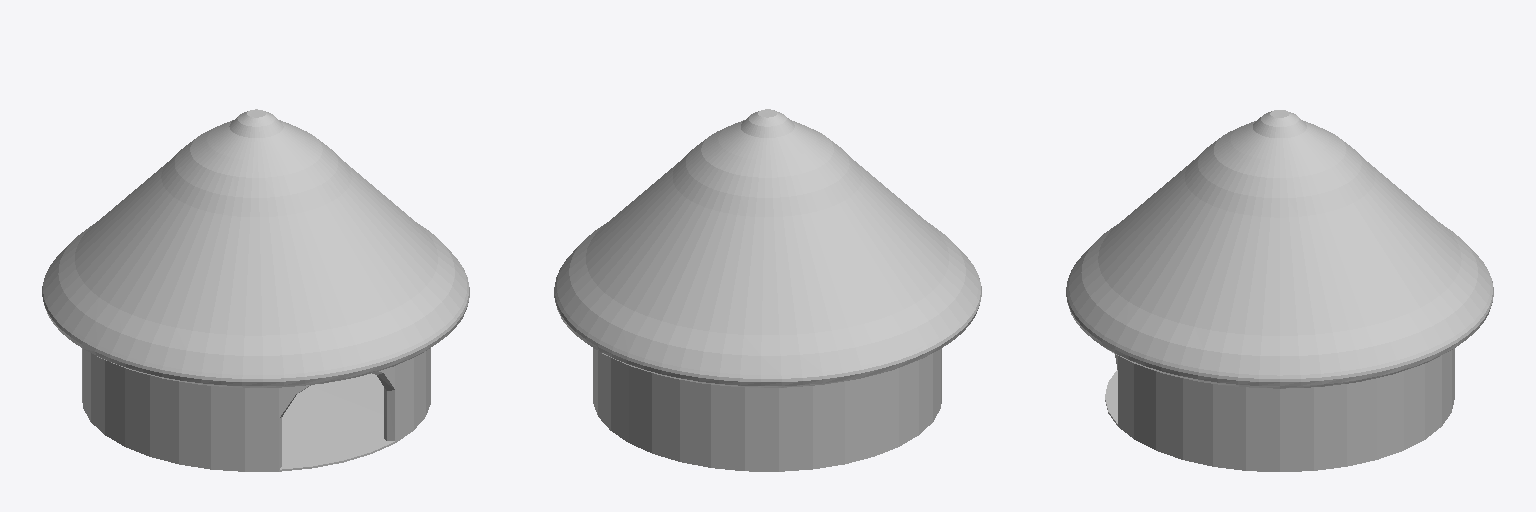
Rendered from Mud_Hut_Final.obj.
3 views of the same model, side by side, from view 1: azimuth 30°, elevation 25°; view 2: azimuth 150°, elevation 25°; view 3: azimuth 270°, elevation 25° (orthographic).
Parts seen in each view (by area): view 1: Mud_Hut; view 2: Mud_Hut; view 3: Mud_Hut.
Part boxes in pixels (x1,y1,x2,y2): Mud_Hut: (42,109,469,471); Mud_Hut: (554,109,981,471); Mud_Hut: (1066,110,1493,471).
Size of the model in its own units: 314 by 231 by 314.